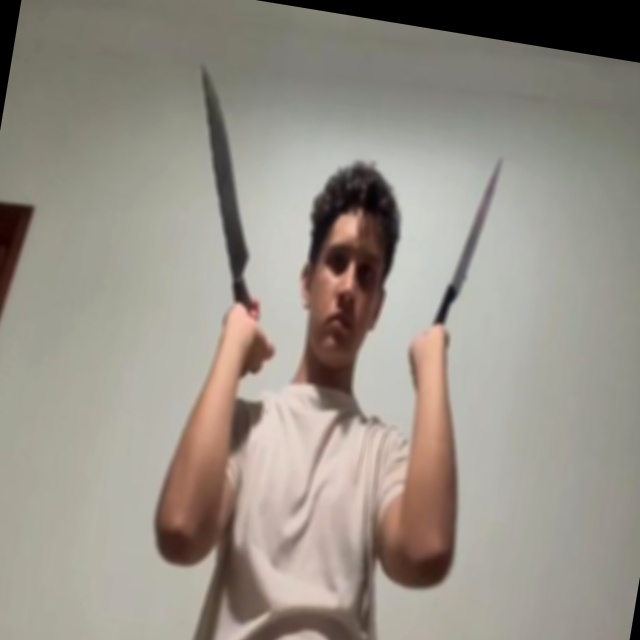Sharp-Object: (173, 61, 279, 263), (450, 151, 505, 296)
